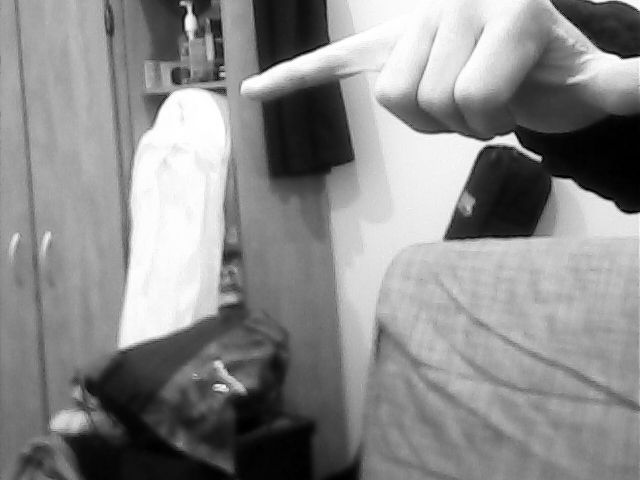aloha: (235, 1, 640, 143)
